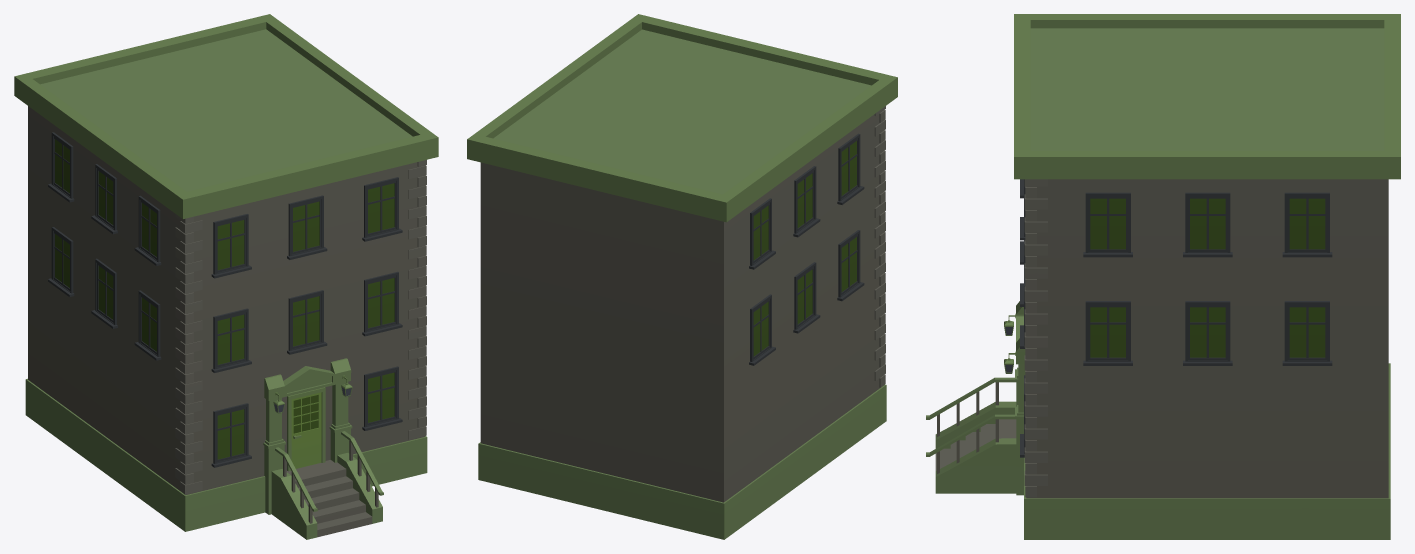
The model's file is House_21.fbx.
3 renders of one model, left to right at view 1: azimuth 30°, elevation 25°; view 2: azimuth 150°, elevation 25°; view 3: azimuth 270°, elevation 25°, orthographic. The views are drawn at different scales.
Parts seen in each view (by area): view 1: House_21; view 2: House_21; view 3: House_21.
Part boxes in pixels (x1,y1,x2,y2): House_21: (14, 14, 438, 539); House_21: (467, 14, 897, 539); House_21: (926, 14, 1400, 539).
Bounding box in the file's own units: 7.47 × 9.42 × 10.48.
